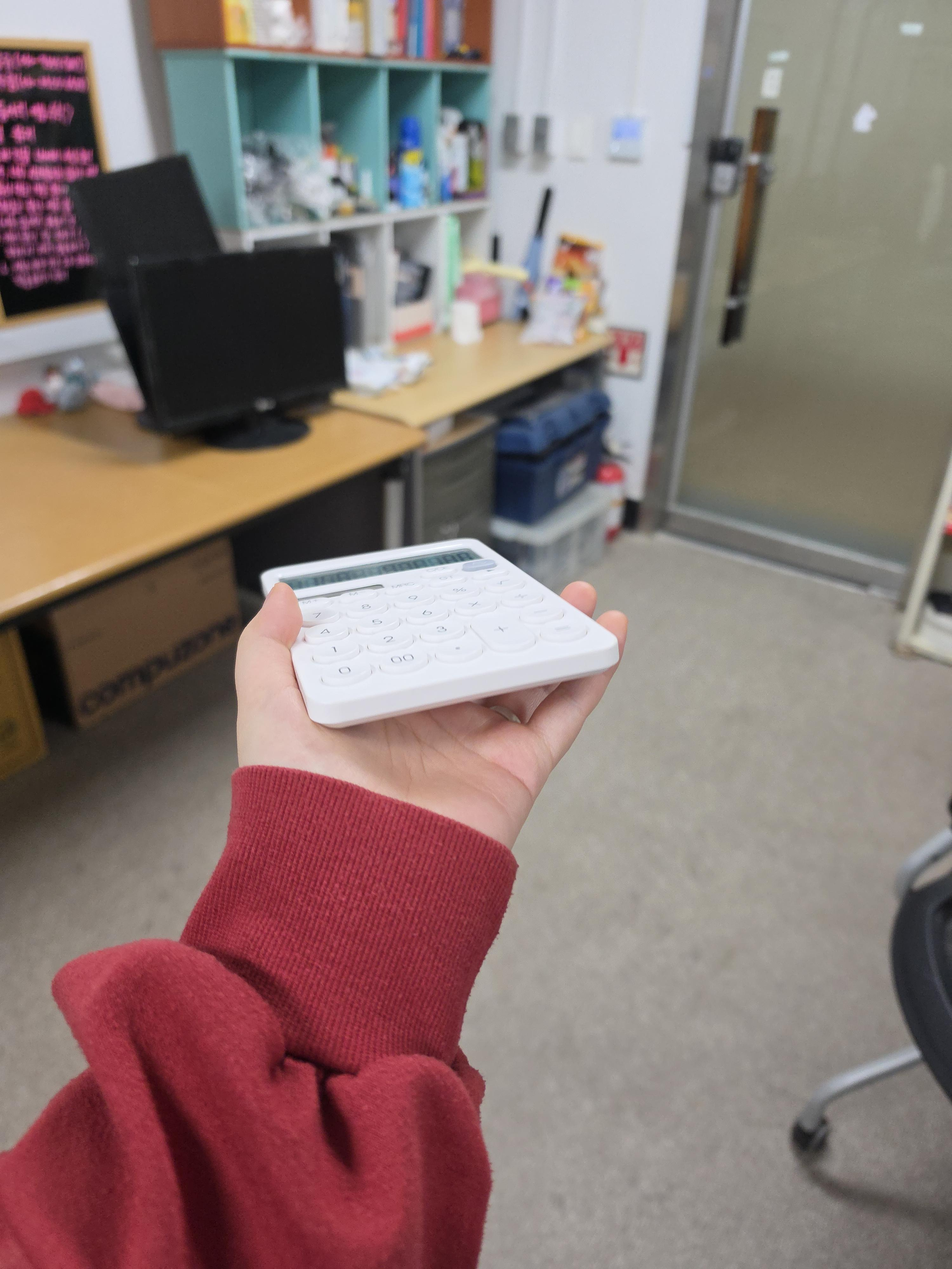calculator: (260, 537, 620, 729)
